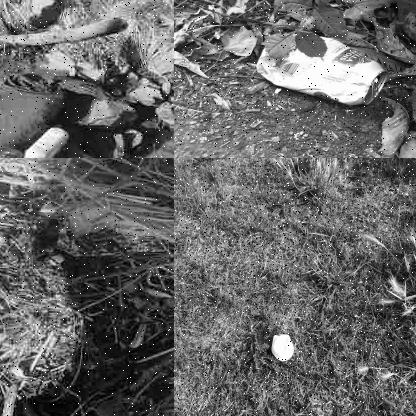metal: (248, 29, 393, 112)
plastic: (47, 193, 173, 256), (24, 128, 70, 157), (272, 332, 294, 362)
